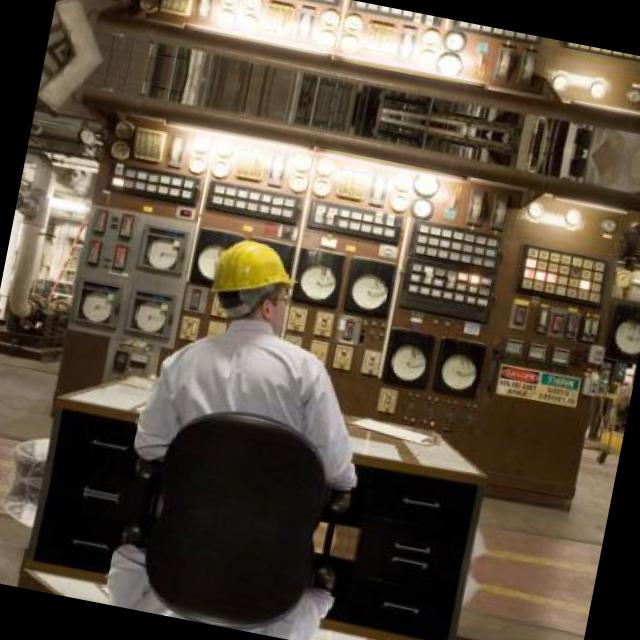helmet: (198, 222, 306, 342)
